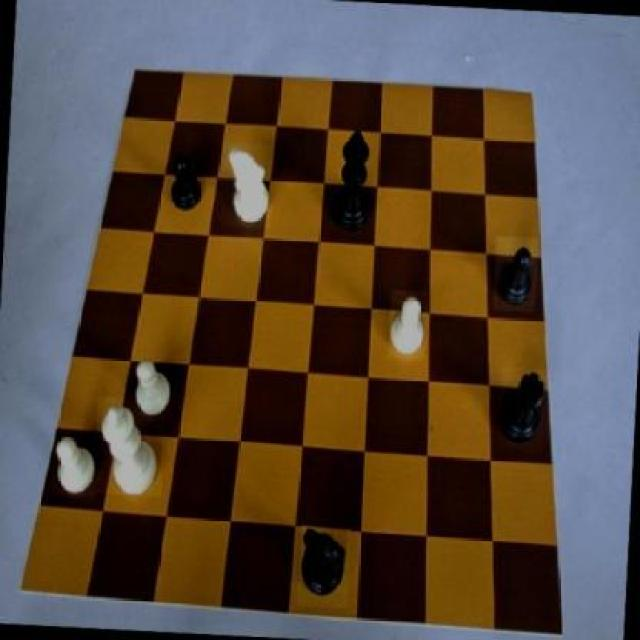black-bishop: (329, 123, 377, 245)
black-king: (297, 526, 351, 611)
black-knight: (494, 236, 540, 312), (168, 151, 210, 220)
black-queen: (497, 368, 546, 452)
white-bishop: (94, 397, 166, 497)
white-king: (218, 142, 276, 228)
white-knight: (129, 352, 179, 422), (52, 437, 100, 498), (389, 289, 429, 359)
